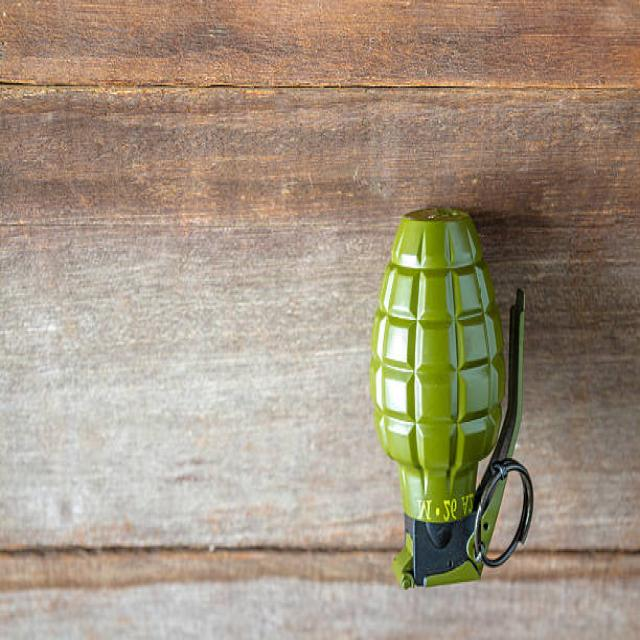grenade: (370, 199, 541, 600)
